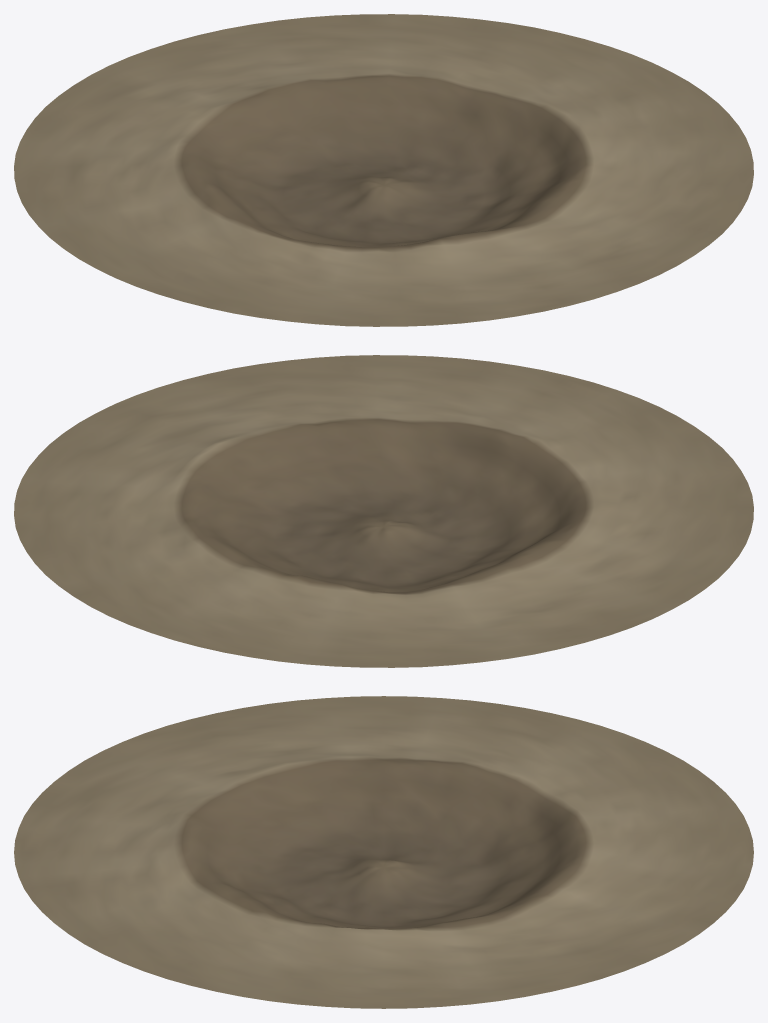
File: impact.glb
3 renders of one model, top to bottom at view 1: azimuth 30°, elevation 25°; view 2: azimuth 150°, elevation 25°; view 3: azimuth 270°, elevation 25°, orthographic.
Visible parts, largest first — view 1: ground; view 2: ground; view 3: ground.
Boxes of the visible parts, x1,y1,x2,y2 form: ground: [14, 14, 753, 326]; ground: [14, 355, 753, 667]; ground: [14, 696, 753, 1008].
Size of the model in its own units: 17 by 0.9883 by 17.
